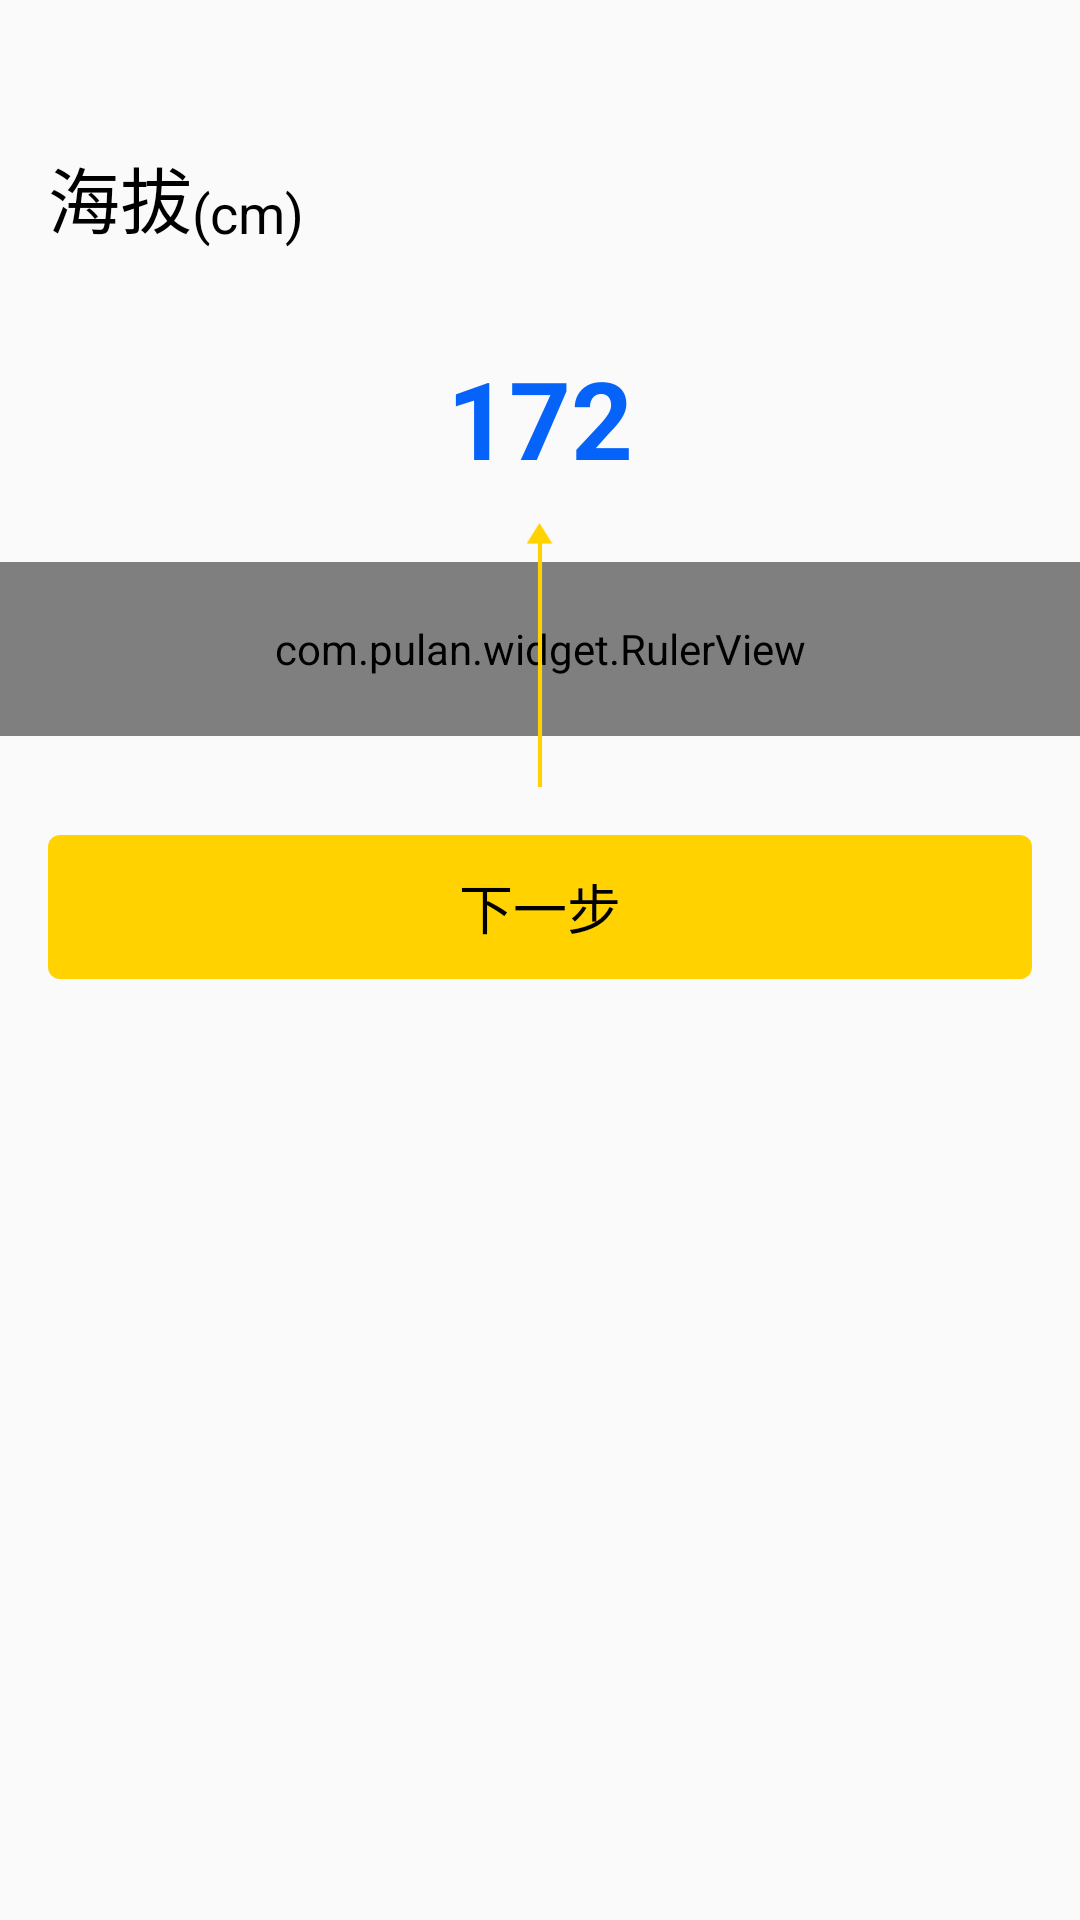

Icons on this 1080×1920 Android screen, each with the point to tap as (x,y):
indicator: (540,655)
